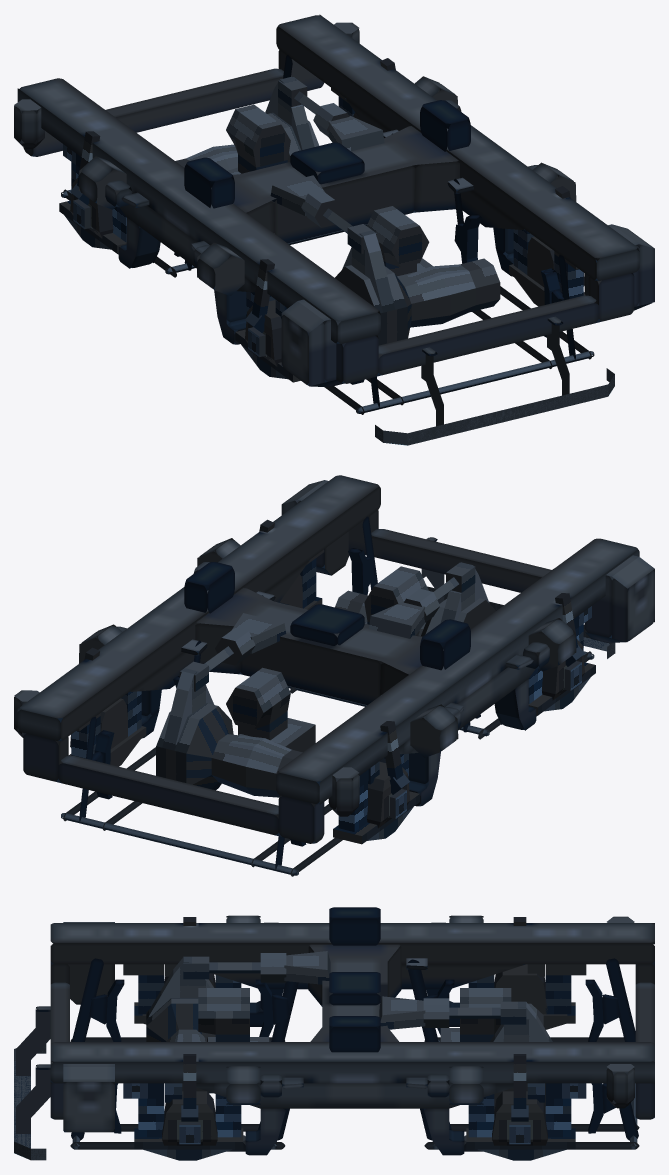
File: dfh21_main_standard.obj
3 views of the same model, one above another, from view 1: azimuth 30°, elevation 25°; view 2: azimuth 150°, elevation 25°; view 3: azimuth 270°, elevation 25° (orthographic). The views are drawn at different scales.
Parts seen in each view (by area): view 1: cube_selection_selection; view 2: cube_selection_selection; view 3: cube_selection_selection.
Part boxes in pixels (<box>): cube_selection_selection: <box>14,14,654,445</box>; cube_selection_selection: <box>14,475,654,876</box>; cube_selection_selection: <box>14,907,654,1160</box>.
Bounding box in the file's own units: 2.87 × 1.12 × 4.67.
